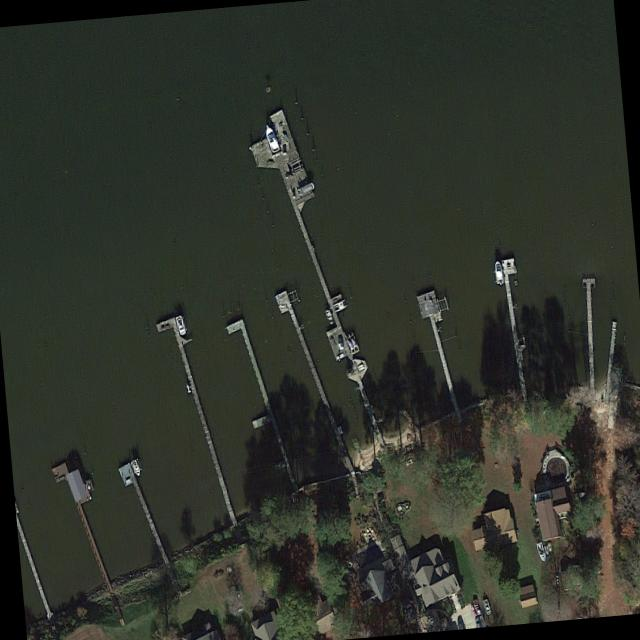ship: (263, 123, 280, 153), (493, 260, 504, 285), (174, 315, 187, 336), (298, 181, 315, 197), (129, 458, 142, 478), (332, 298, 348, 313), (536, 541, 547, 562), (482, 598, 492, 615), (324, 309, 334, 325), (84, 478, 91, 490), (546, 541, 552, 552), (544, 544, 549, 555)
small-vehicle: (573, 492, 588, 500)
